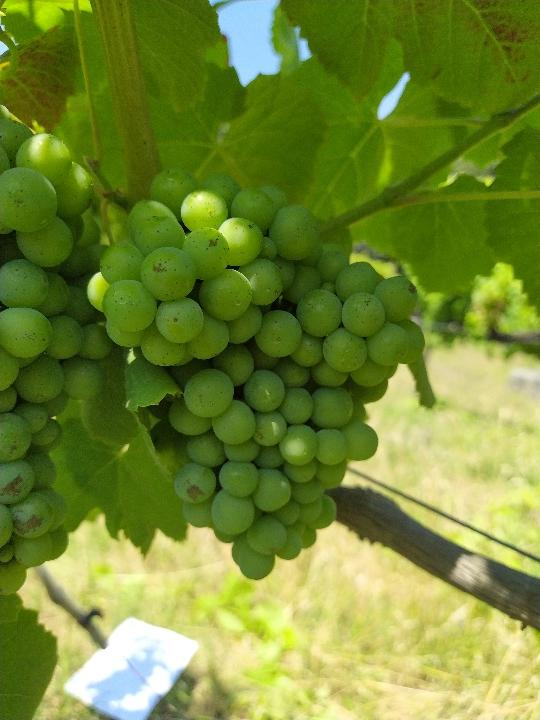grape: (87, 166, 429, 587)
